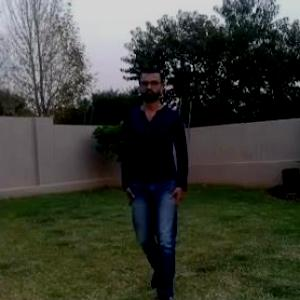follow: (124, 67, 189, 292)
